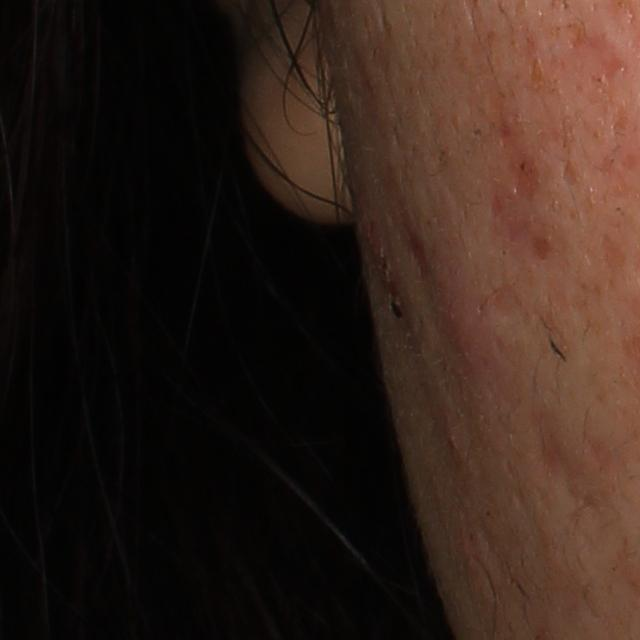atrophic_scar: (527, 411, 618, 518), (565, 28, 629, 80), (511, 154, 543, 202), (528, 237, 561, 266), (603, 230, 623, 273), (560, 158, 580, 189)
